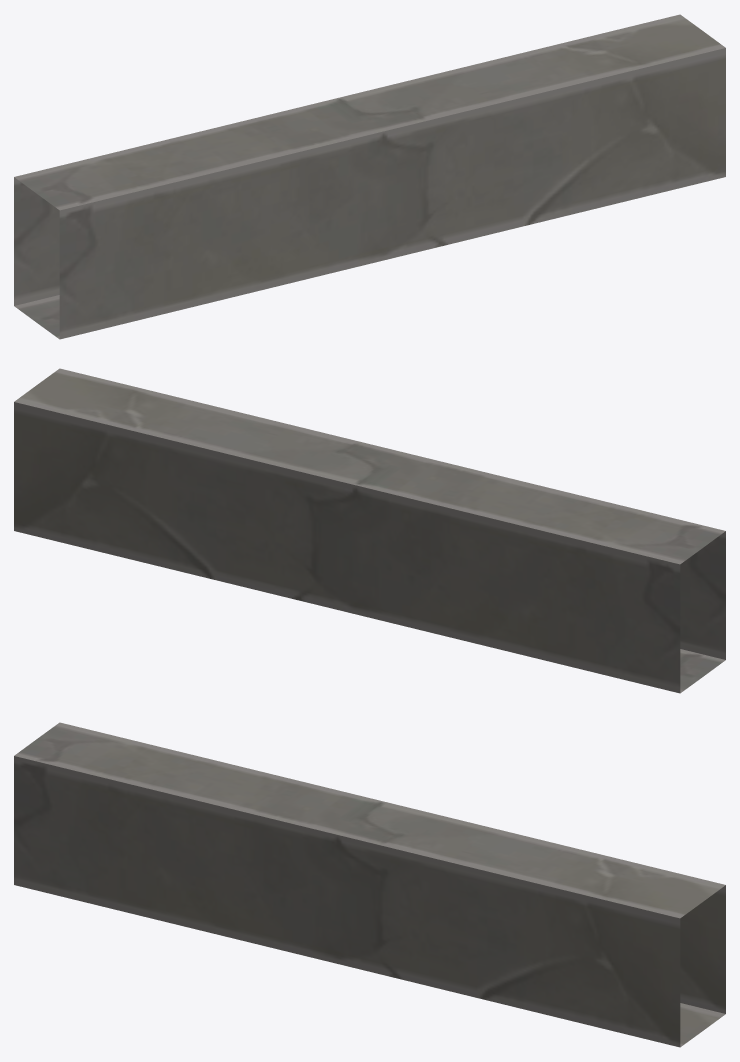
File: Tile_ArchPillar.fbx
3 views of the same model, one above another, from view 1: azimuth 30°, elevation 25°; view 2: azimuth 150°, elevation 25°; view 3: azimuth 330°, elevation 25° (orthographic).
Visible parts, largest first — view 1: polySurface7; view 2: polySurface7; view 3: polySurface7.
Part boxes in pixels (x1,y1,x2,y2): polySurface7: (14,14,725,339); polySurface7: (14,368,725,693); polySurface7: (14,722,725,1047).
Bounding box in the file's own units: 5.06 × 0.9358 × 0.6012.
Materials: 1 (1 with a texture image).
